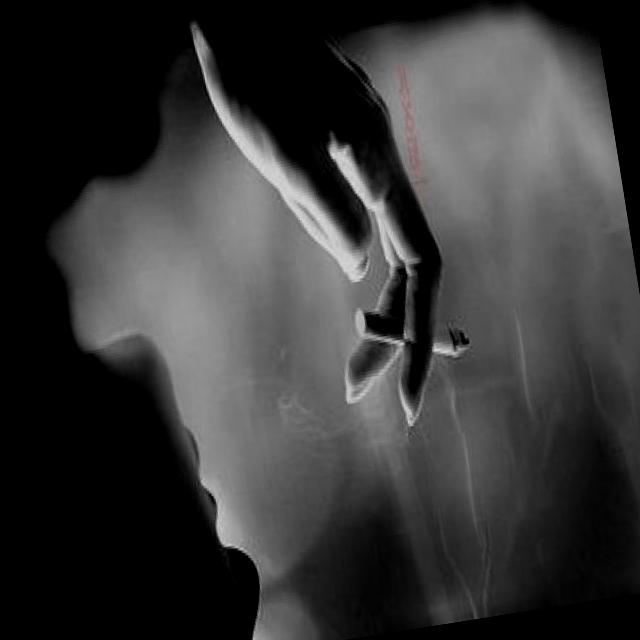cigarette: (340, 285, 483, 394)
